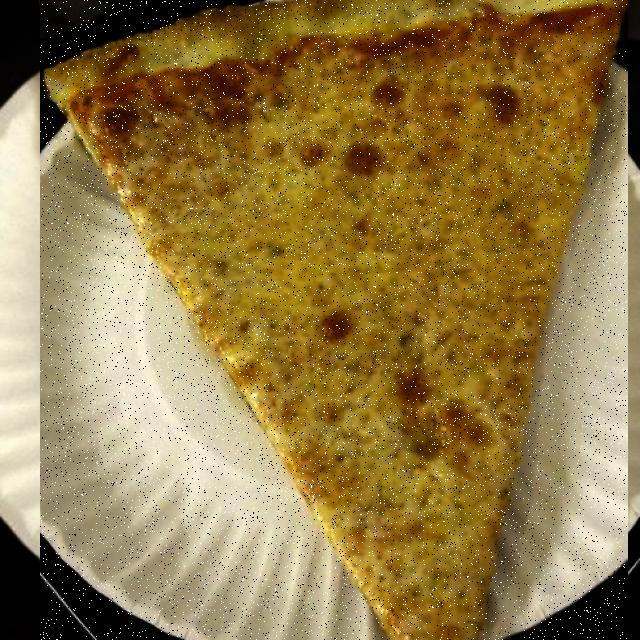Pizza: (41, 0, 627, 640)
